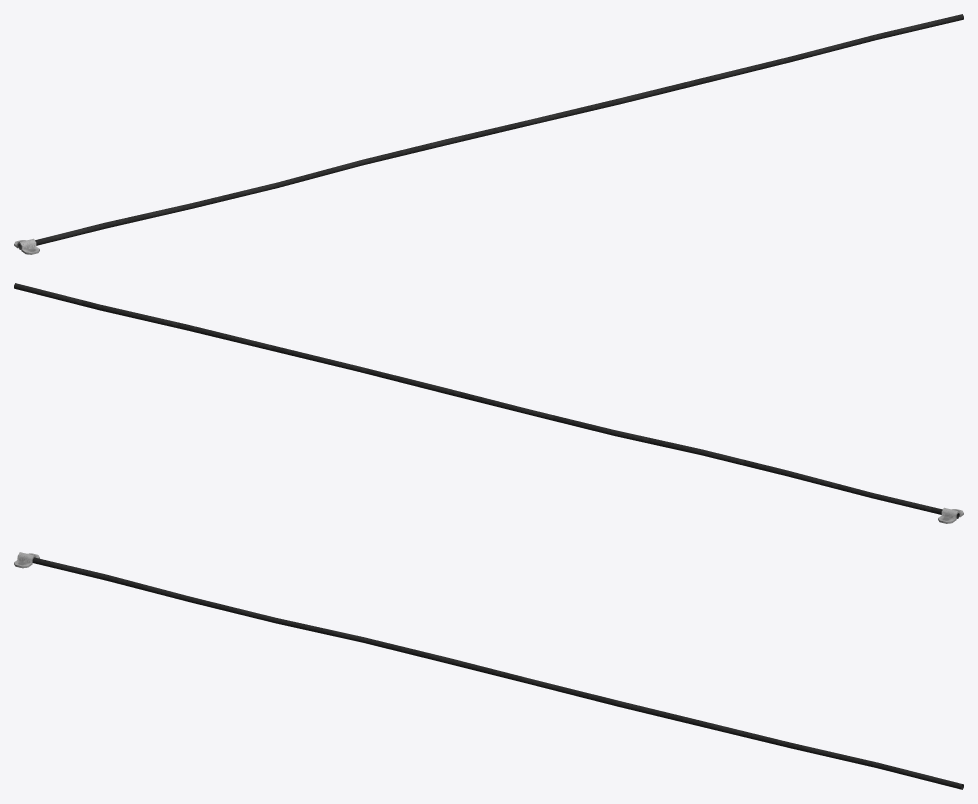
Rendered from Cable_100cm.fbx.
3 renders of one model, top to bottom at view 1: azimuth 30°, elevation 25°; view 2: azimuth 150°, elevation 25°; view 3: azimuth 330°, elevation 25°, orthographic.
Parts seen in each view (by area): view 1: Cable_100cm; view 2: Cable_100cm; view 3: Cable_100cm.
Boxes of the visible parts, x1,y1,x2,y2 form: Cable_100cm: [14, 14, 963, 254]; Cable_100cm: [14, 283, 963, 523]; Cable_100cm: [14, 552, 963, 789].
Bounding box in the file's own units: 100 × 0.8 × 2.92.
